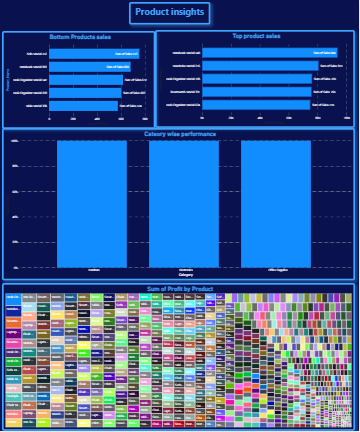

The dashboard page shown, as its layout file describes it:
{"tool":"powerbi","page":{"name":"Page 2","canvas":[1500,1800],"ordinal":1},"visuals":[{"type":"textbox","box":[540.8,14.3,338.8,93.9],"z":0},{"type":"barChart","title":"Bottom Products sales","fields":{"Category":["SalesData.Product_Name"],"Y":["Sum(SalesData.Sales)"]},"box":[12,131.3,638.6,408.4],"z":1000},{"type":"barChart","title":"Top product sales","fields":{"Category":["SalesData.Product_Name"],"Y":["Sum(SalesData.Sales)"]},"box":[651,130.6,832.7,408.2],"z":2000},{"type":"hundredPercentStackedColumnChart","title":"Cateory wise performance ","fields":{"Category":["SalesData.Category"],"Y":["Sum(SalesData.Sales)"]},"box":[12.2,538.8,1471.4,634.7],"z":3000},{"type":"treemap","title":"Sum of Profit by Product","fields":{"Group":["SalesData.Product_Name"],"Values":["Sum(SalesData.Profit)"]},"box":[12,1184,1471,616],"z":4000}]}

Visuals, with their boxes in screenshot pixels (x1, y1, x2, y2), scaled from the page's 1500x1800 canvas onto the 360x432 screenshot:
textbox: <region>130, 3, 211, 26</region>
"Bottom Products sales" barChart: <region>3, 32, 156, 130</region>
"Top product sales" barChart: <region>156, 31, 356, 129</region>
"Cateory wise performance " hundredPercentStackedColumnChart: <region>3, 129, 356, 282</region>
"Sum of Profit by Product" treemap: <region>3, 284, 356, 431</region>
